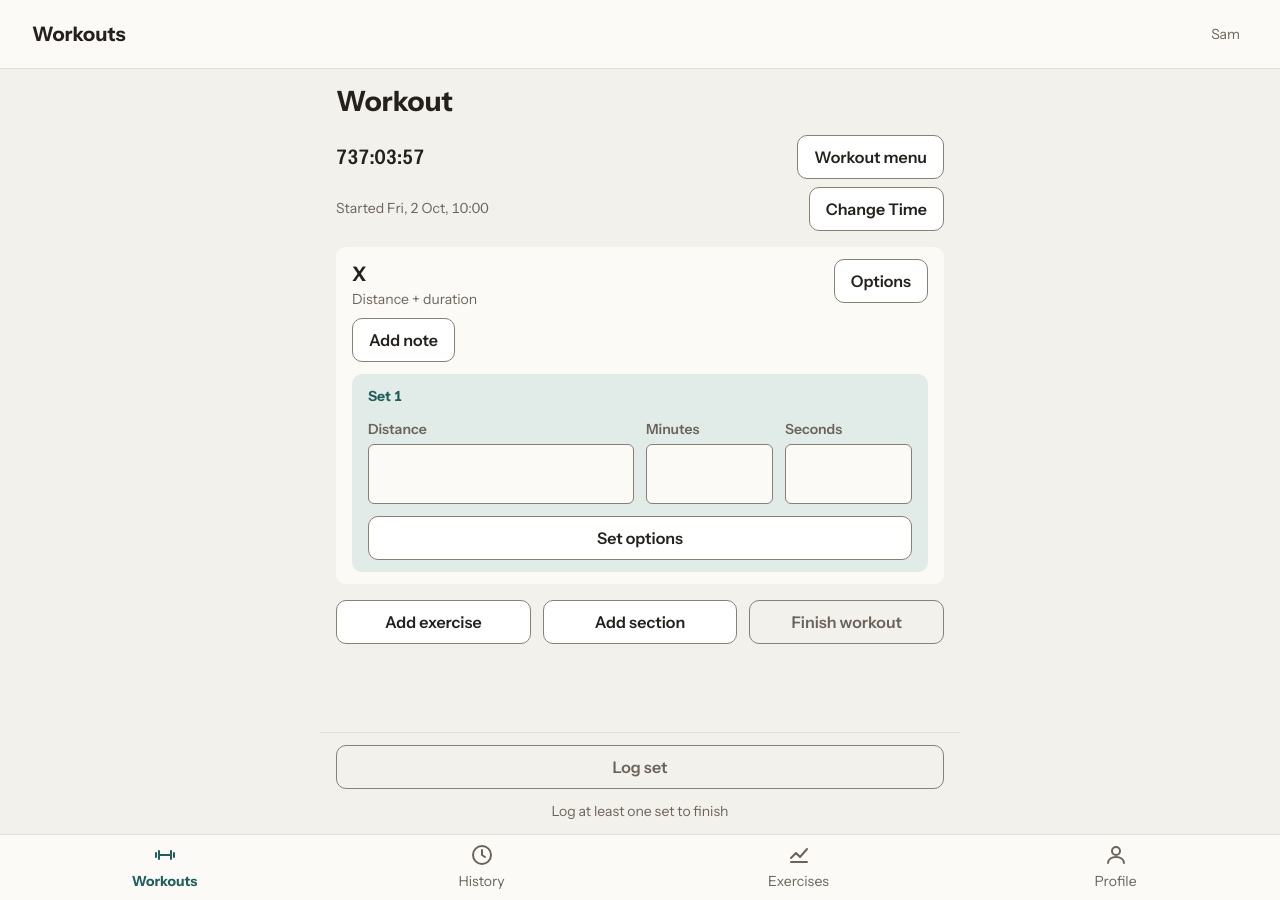
Test: AC21 — entry row fields per modality › distance_duration shows exactly its measures and no forbidden one
Check: the heading "Workout" is shown, box [336,84,453,118]
Click the button "Set options".
click(640, 538)  # box [368,516,912,560]
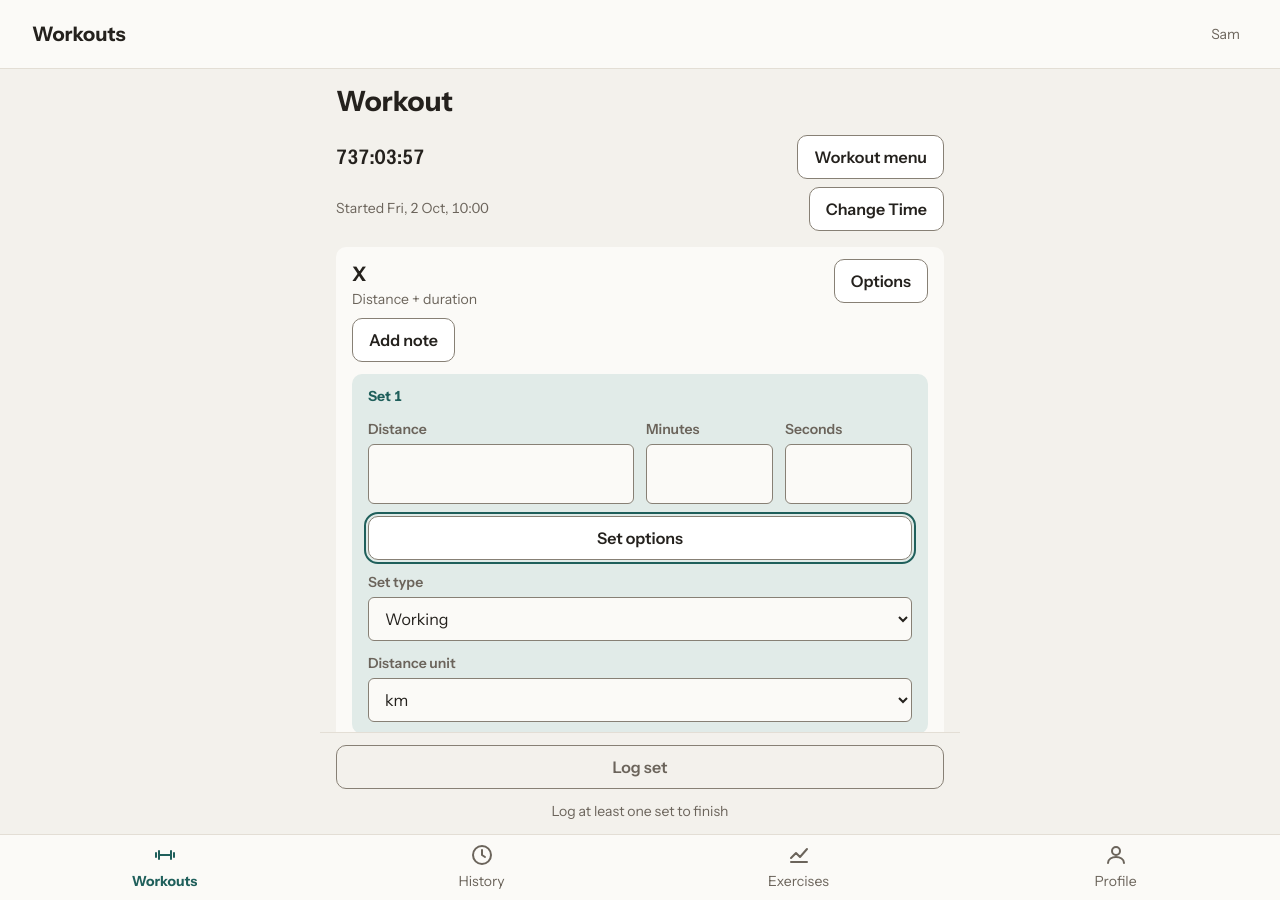
Check: the field labelled "Distance" is shown, box [368,444,634,504]
Check: the dropdown labelled "Distance unit" is shown, box [368,678,912,722]
